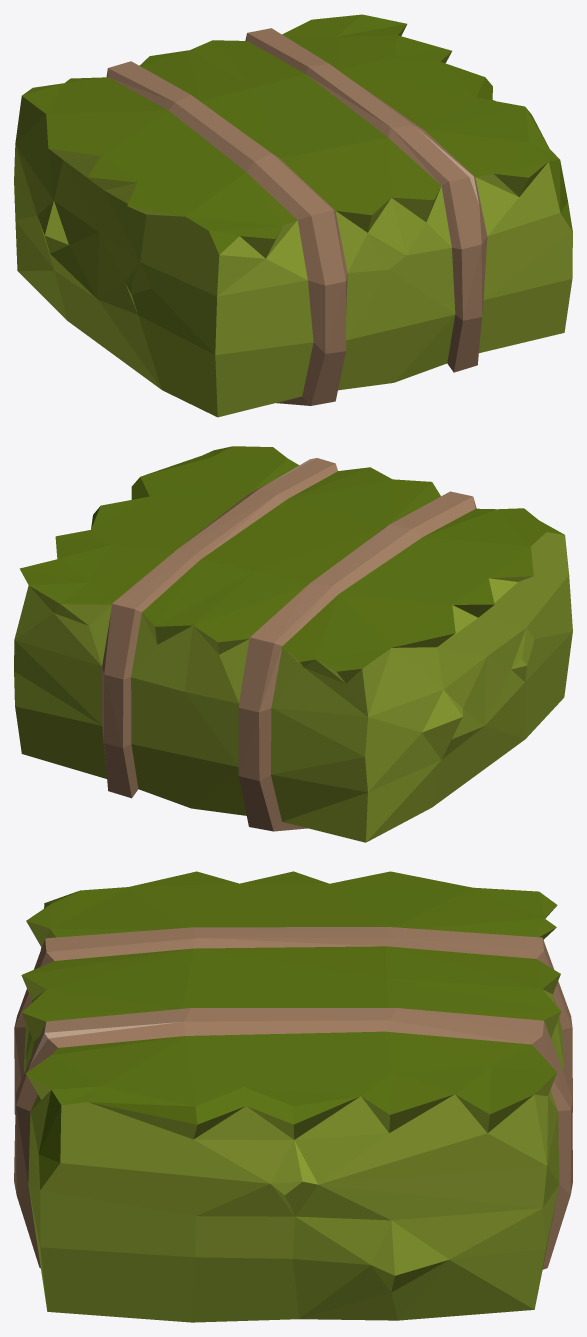
Rendered from EA_M_HayBale_Square_Green_01c.fbx.
3 views of the same model, one above another, from view 1: azimuth 30°, elevation 25°; view 2: azimuth 150°, elevation 25°; view 3: azimuth 270°, elevation 25° (orthographic). The views are drawn at different scales.
Visible parts, largest first — view 1: EA_M_HayBale_Square_Green_01c_LOD0; view 2: EA_M_HayBale_Square_Green_01c_LOD0; view 3: EA_M_HayBale_Square_Green_01c_LOD0.
Part boxes in pixels (x1,y1,x2,y2): EA_M_HayBale_Square_Green_01c_LOD0: (14,14,572,417); EA_M_HayBale_Square_Green_01c_LOD0: (14,446,572,842); EA_M_HayBale_Square_Green_01c_LOD0: (14,871,572,1322).
Size of what is drawn, in the model's own units: 1.21 by 0.6056 by 1.15.
